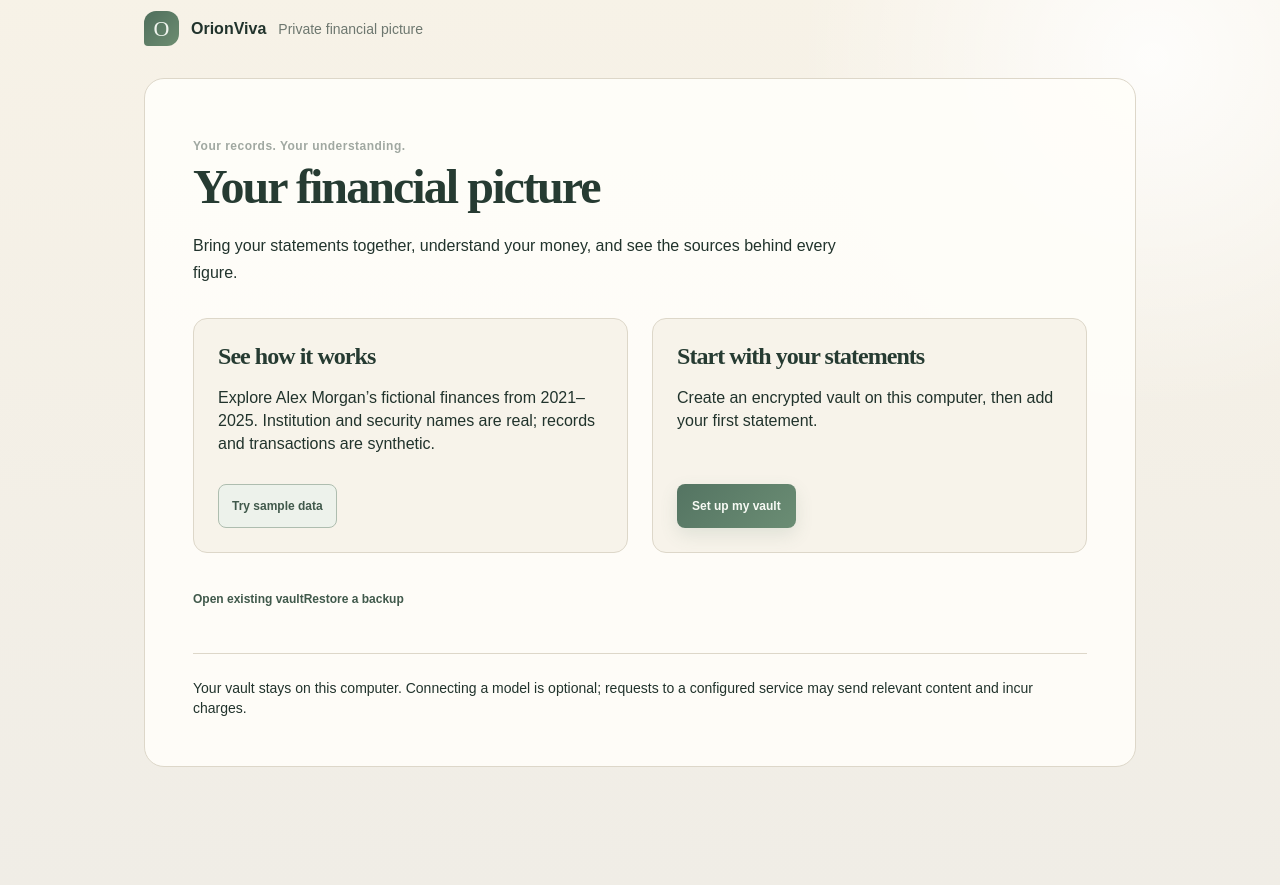
Test: documents › explains device-protected default-vault storage to the field and control
Click the button "Open existing vault".
click(248, 598)  # box [193,576,304,620]
(page scrolled)
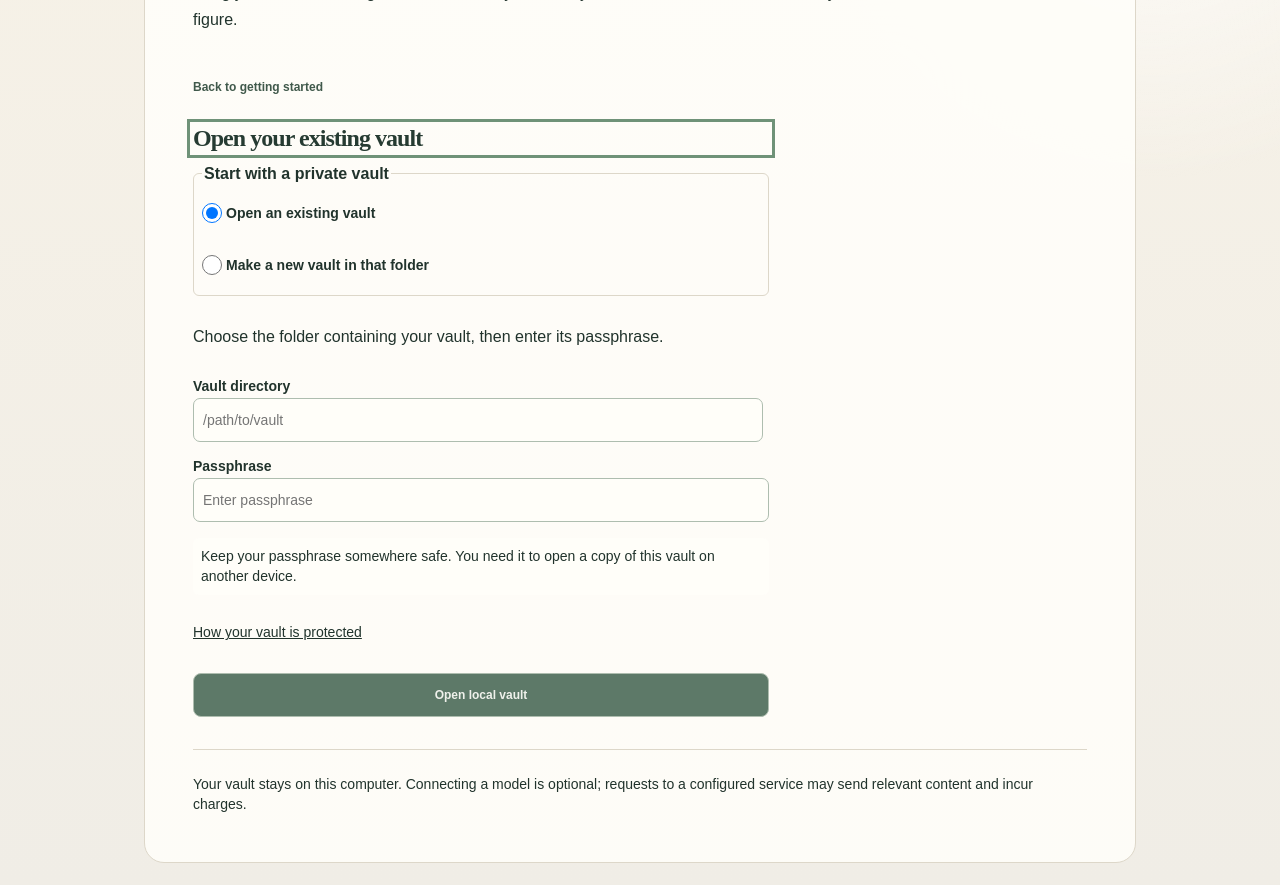
Expected: the text "Keep your passphrase somewhere safe. You need it to open a copy of this vault on another device." is shown, [201,548,715,584]
Click the heading "How your vault is protected".
click(277, 632)  # box [193,624,362,640]
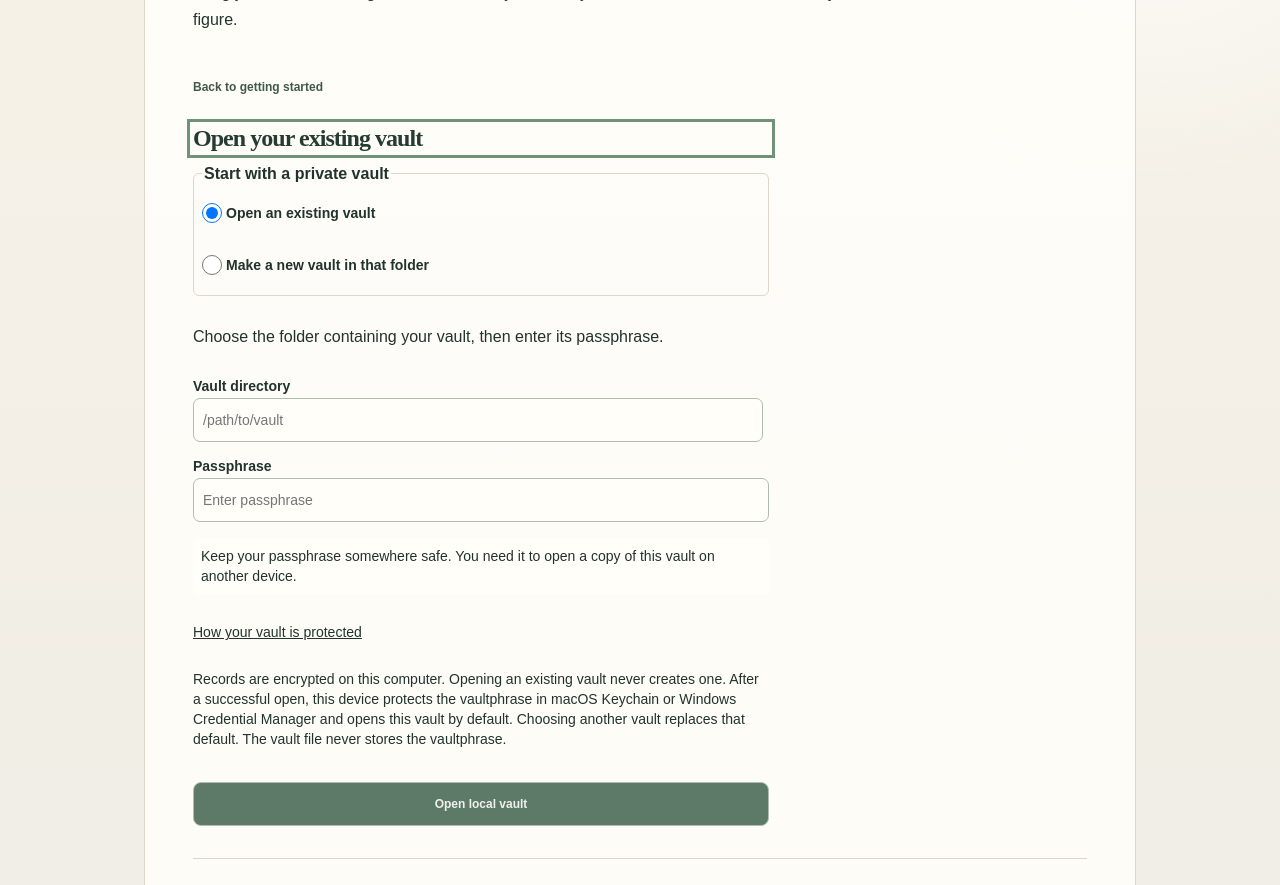
Expected: the text "Keep your passphrase somewhere safe. You need it to open a copy of this vault on another device." is shown, [201,548,715,584]
Expected: the text "this device protects the vaultphrase in macOS Keychain or Windows Credential Manager" is shown, [193,671,759,748]
